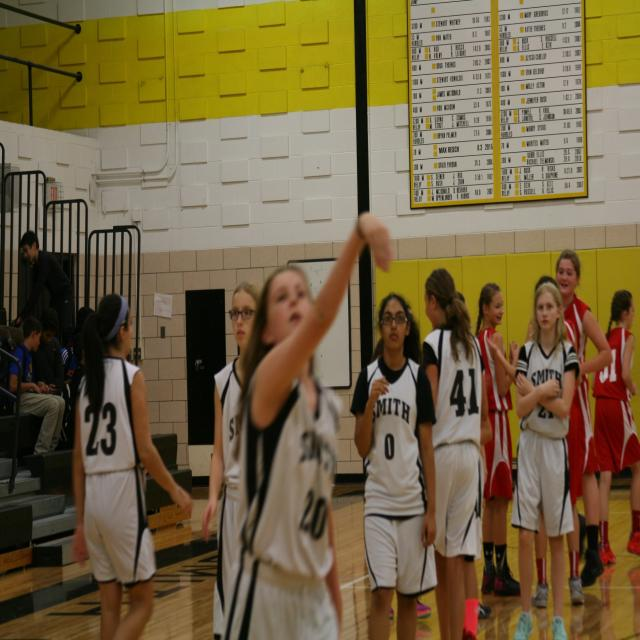body: (222, 212, 392, 640), (69, 290, 196, 640), (346, 290, 439, 640), (511, 280, 583, 640), (420, 266, 489, 640), (202, 279, 264, 639), (367, 307, 436, 624), (524, 273, 588, 611), (554, 248, 614, 590), (467, 280, 526, 599), (590, 288, 640, 567), (454, 290, 492, 620), (8, 316, 66, 456), (14, 230, 75, 347), (32, 307, 66, 397), (68, 332, 87, 434), (60, 344, 74, 412)
